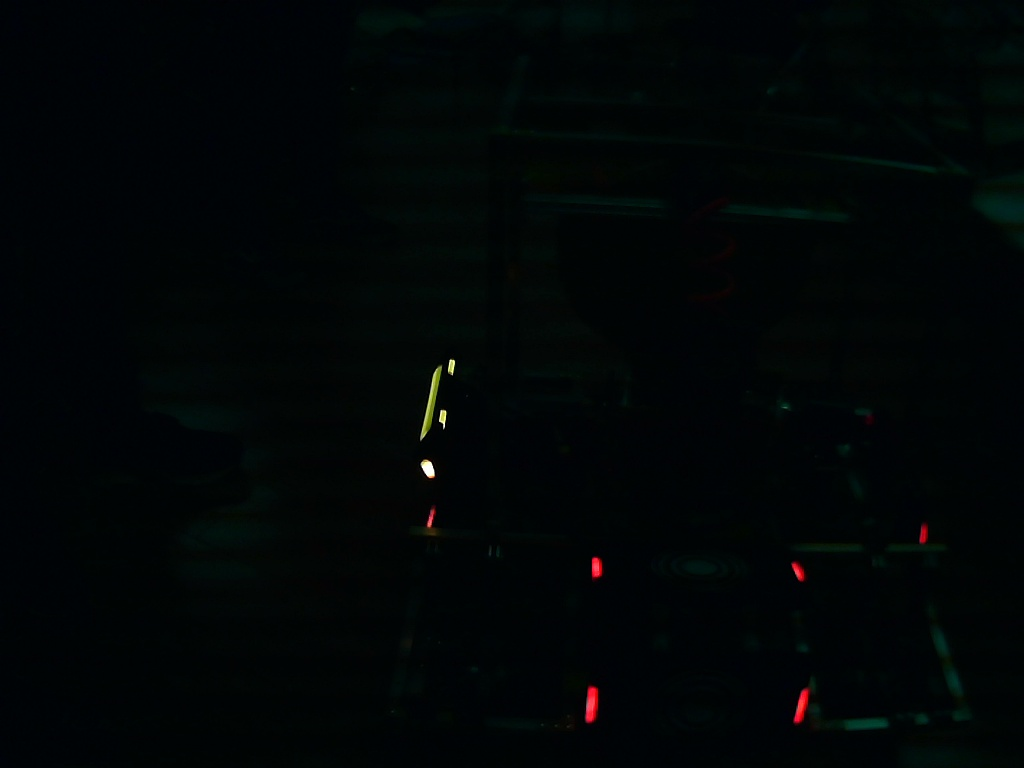lamp: (584, 683, 602, 728), (793, 683, 810, 725)
